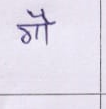au_matra: (30, 10, 54, 38)
